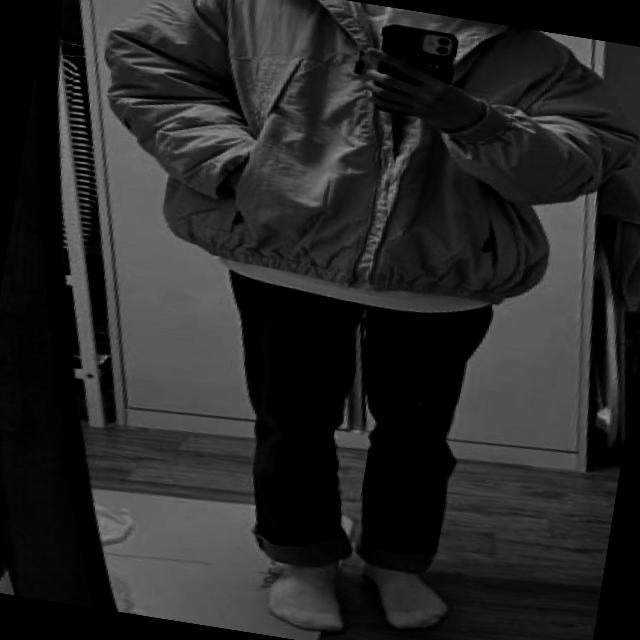denimpants: (188, 269, 487, 585)
padding: (73, 0, 640, 322)
